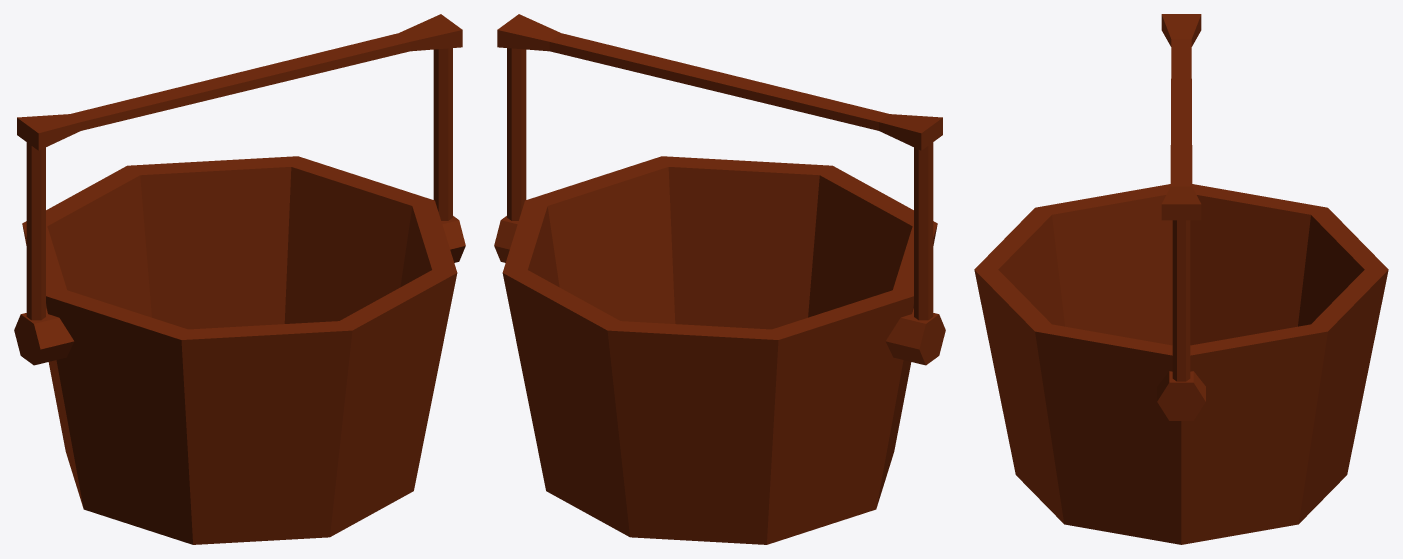
File: BUCKET_V1.fbx
3 renders of one model, left to right at view 1: azimuth 30°, elevation 25°; view 2: azimuth 150°, elevation 25°; view 3: azimuth 270°, elevation 25°, orthographic. The views are drawn at different scales.
Visible parts, largest first — view 1: Cylinder, Cube, Cylinder.004, Cylinder.003, Cylinder.002, Cylinder.001; view 2: Cylinder, Cube, Cylinder.004, Cylinder.003, Cylinder.002, Cylinder.001; view 3: Cylinder, Cube, Cylinder.003, Cylinder.001.
Boxes of the visible parts, x1=… form: Cylinder: x1=22, y1=156, x2=457, y2=544; Cube: x1=17, y1=14, x2=462, y2=150; Cylinder.004: x1=26, y1=142, x2=45, y2=320; Cylinder.003: x1=433, y1=48, x2=452, y2=220; Cylinder.002: x1=14, y1=308, x2=74, y2=365; Cylinder.001: x1=441, y1=216, x2=465, y2=262; Cylinder: x1=502, y1=156, x2=937, y2=544; Cube: x1=497, y1=14, x2=942, y2=150; Cylinder.004: x1=914, y1=142, x2=933, y2=320; Cylinder.003: x1=507, y1=48, x2=526, y2=220; Cylinder.002: x1=885, y1=308, x2=945, y2=365; Cylinder.001: x1=494, y1=216, x2=518, y2=262; Cylinder: x1=974, y1=184, x2=1388, y2=544; Cube: x1=1161, y1=14, x2=1201, y2=220; Cylinder.003: x1=1172, y1=220, x2=1190, y2=381; Cylinder.001: x1=1157, y1=371, x2=1205, y2=420.
Bounding box in the file's own units: 273 × 244 × 250.
